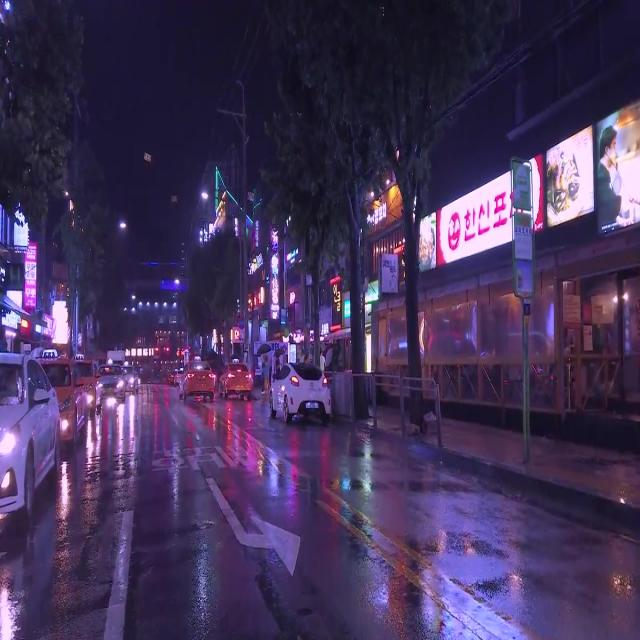Car: (269, 363, 332, 426), (176, 362, 215, 398), (216, 360, 251, 400), (96, 359, 125, 397)
